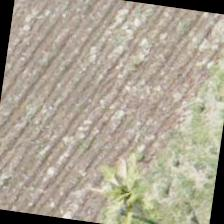Kelapa_Sawit: (88, 144, 189, 223)
